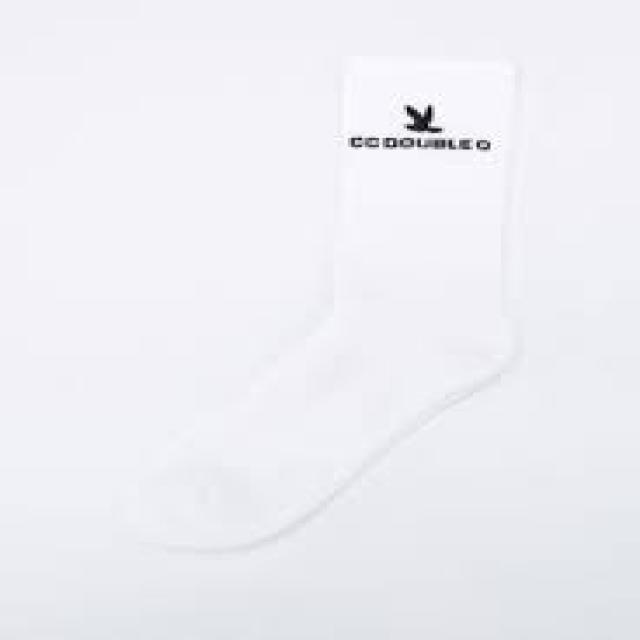sock: (136, 54, 525, 551)
